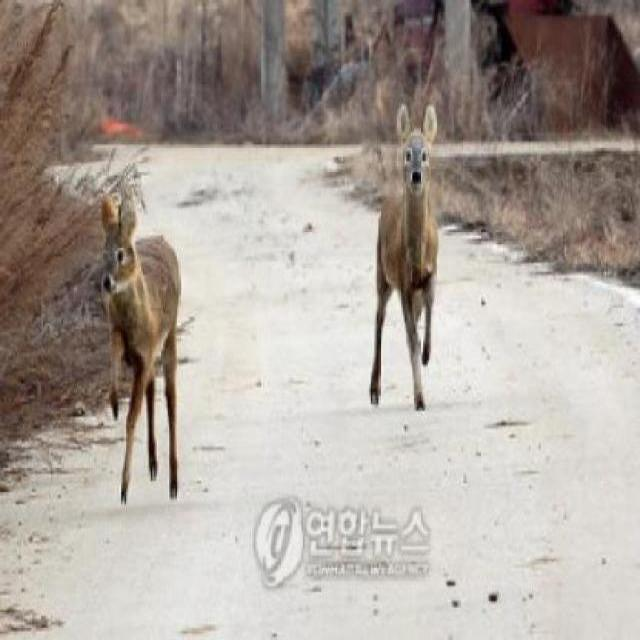deer: (96, 190, 186, 513), (368, 103, 440, 417)
